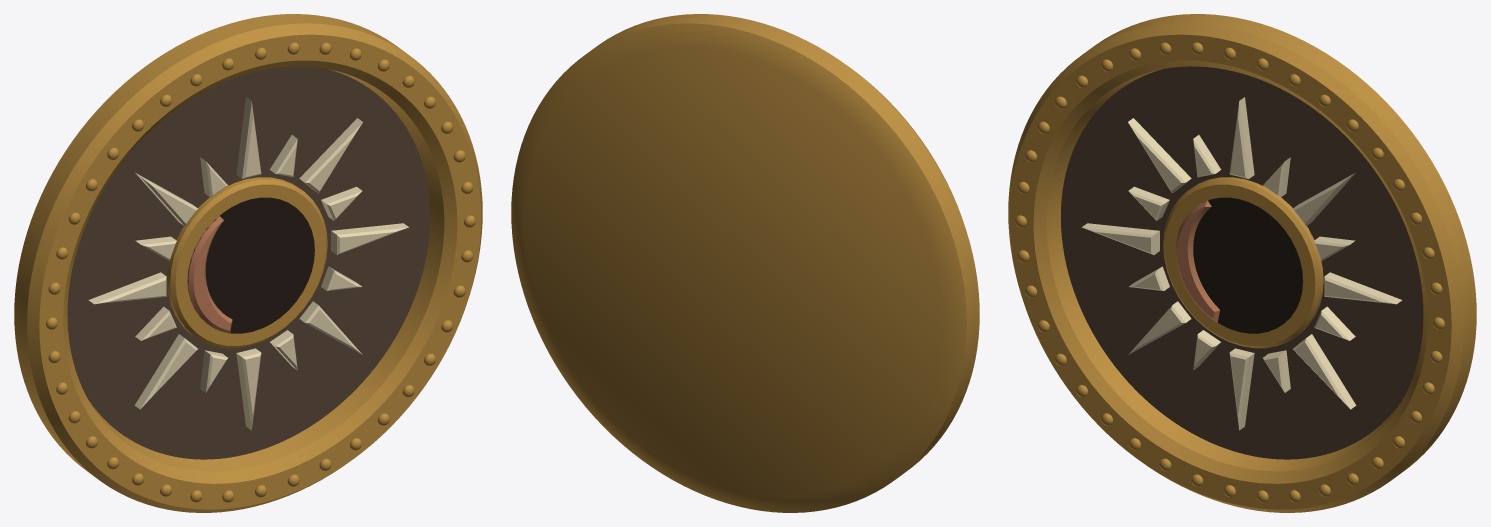
File: dark-elf.glb
3 views of the same model, side by side, from view 1: azimuth 30°, elevation 25°; view 2: azimuth 150°, elevation 25°; view 3: azimuth 330°, elevation 25° (orthographic).
Visible parts, largest first — view 1: emblem-dark-elf, emblem-dark-elf-unlined; view 2: emblem-dark-elf; view 3: emblem-dark-elf, emblem-dark-elf-unlined.
Part boxes in pixels (x1,y1,x2,y2): emblem-dark-elf: (14, 14, 482, 512); emblem-dark-elf-unlined: (187, 197, 314, 333); emblem-dark-elf: (511, 14, 979, 512); emblem-dark-elf: (1008, 14, 1476, 512); emblem-dark-elf-unlined: (1193, 197, 1303, 333).
Size of the model in its own units: 0.2128 by 0.2128 by 0.0219.
